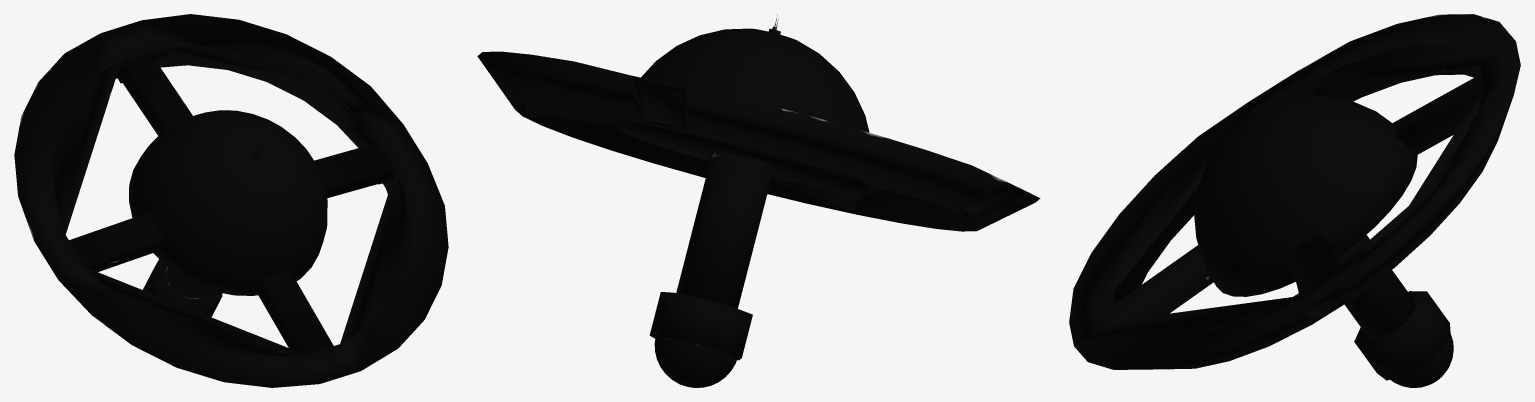
File: Spacestation_finished.fbx
The picture shows the model from 3 angles, left to right: view 1: azimuth 30°, elevation 25°; view 2: azimuth 150°, elevation 25°; view 3: azimuth 270°, elevation 25°; orthographic projection. The views are drawn at different scales.
Parts seen in each view (by area): view 1: node_id3; view 2: node_id3; view 3: node_id3.
Part boxes in pixels (x1=…): node_id3: x1=14, y1=14, x2=448, y2=387; node_id3: x1=477, y1=14, x2=1040, y2=387; node_id3: x1=1069, y1=14, x2=1520, y2=387.
Bounding box in the file's own units: 0.5122 × 0.3406 × 0.4307.
1 material, 1 textured.
